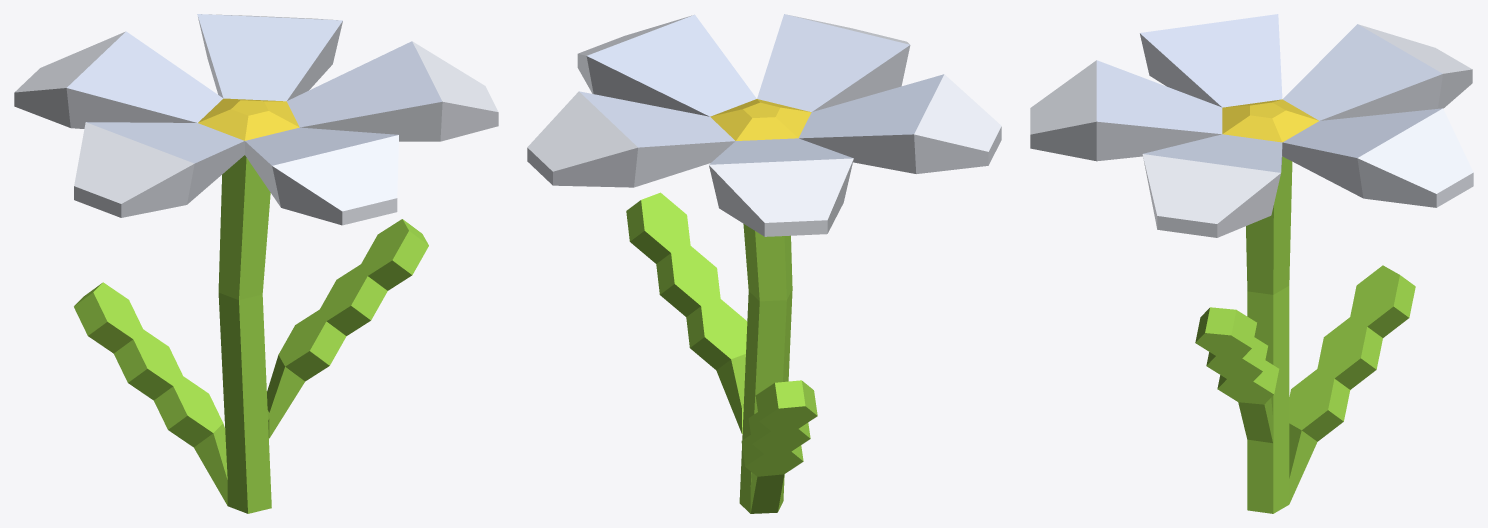
Rendered from flower_white.fbx.
3 renders of one model, left to right at view 1: azimuth 30°, elevation 25°; view 2: azimuth 150°, elevation 25°; view 3: azimuth 270°, elevation 25°, orthographic.
Parts seen in each view (by area): view 1: flower_white; view 2: flower_white; view 3: flower_white.
Part boxes in pixels (<box>): flower_white: <box>14,14,498,513</box>; flower_white: <box>527,14,1001,513</box>; flower_white: <box>1030,14,1473,513</box>.
Bounding box in the file's own units: 32.48 × 31.34 × 30.43.
